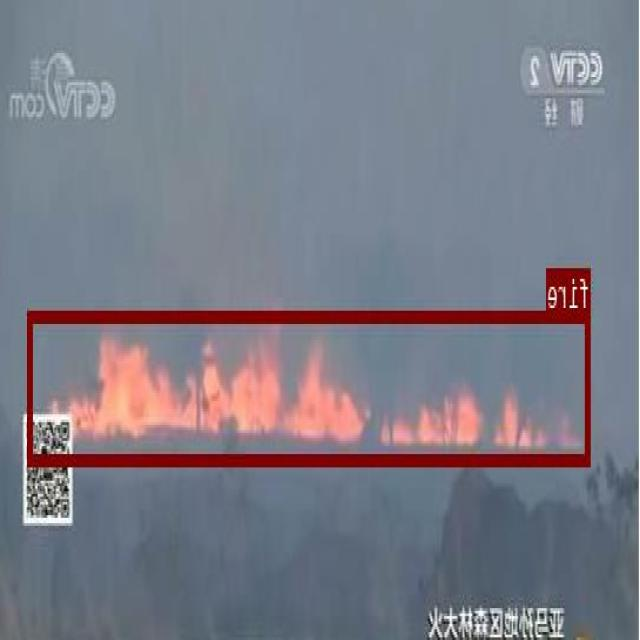fire: (29, 310, 592, 464)
